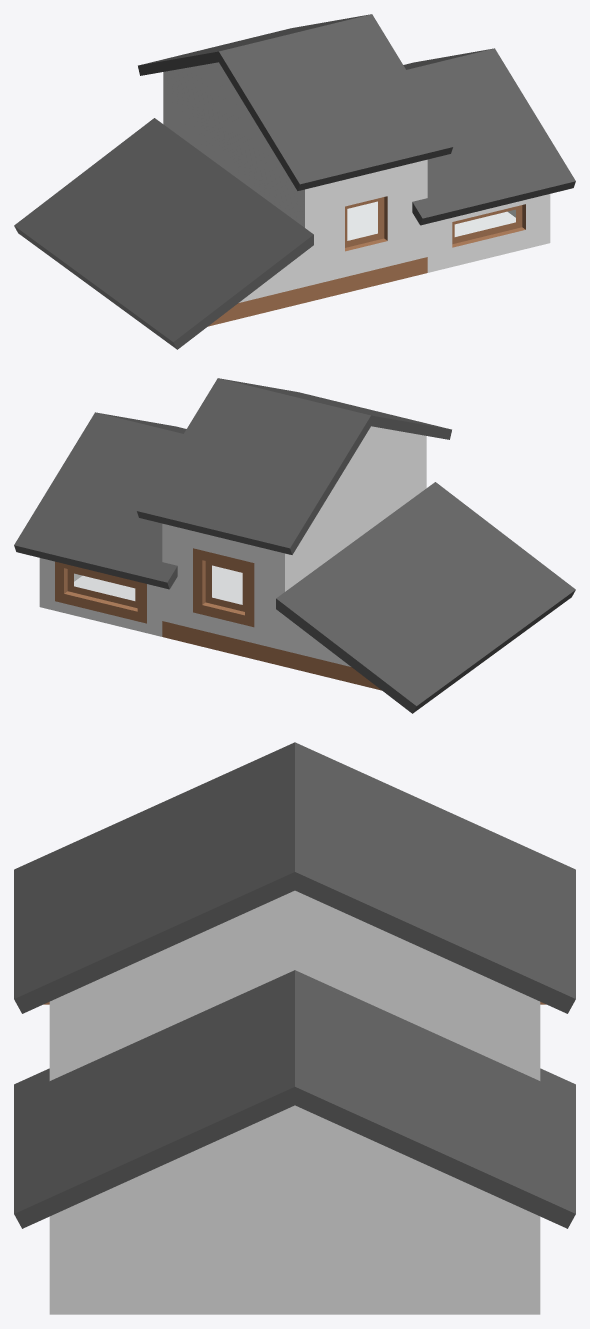
Rendered from Tile_House_2_Roof.fbx.
3 views of the same model, one above another, from view 1: azimuth 30°, elevation 25°; view 2: azimuth 150°, elevation 25°; view 3: azimuth 270°, elevation 25° (orthographic). The views are drawn at different scales.
Visible parts, largest first — view 1: house_type14.001; view 2: house_type14.001; view 3: house_type14.001.
Boxes of the visible parts, x1=… form: house_type14.001: x1=14, y1=14, x2=575, y2=349; house_type14.001: x1=14, y1=378, x2=575, y2=713; house_type14.001: x1=14, y1=742, x2=575, y2=1314.
Size of the model in its own units: 131 by 65.59 by 91.63.
